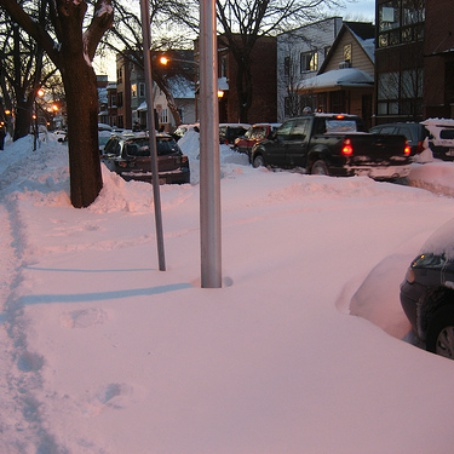building: (268, 12, 373, 117), (378, 1, 454, 117), (199, 31, 270, 122), (109, 50, 195, 125)
car: (248, 112, 406, 180), (101, 130, 192, 189)
